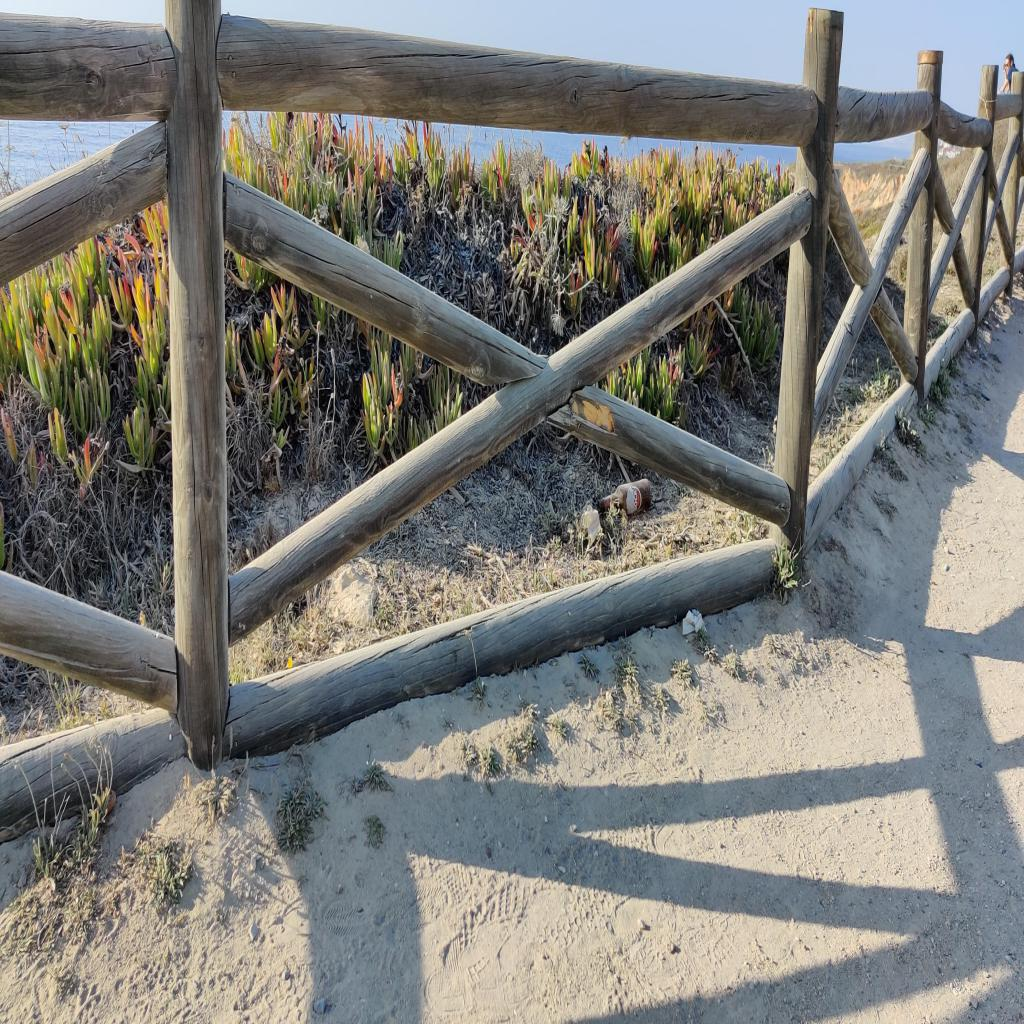Glass bottle: (598, 479, 651, 517)
Tissues: (581, 505, 600, 549), (683, 610, 706, 635)
